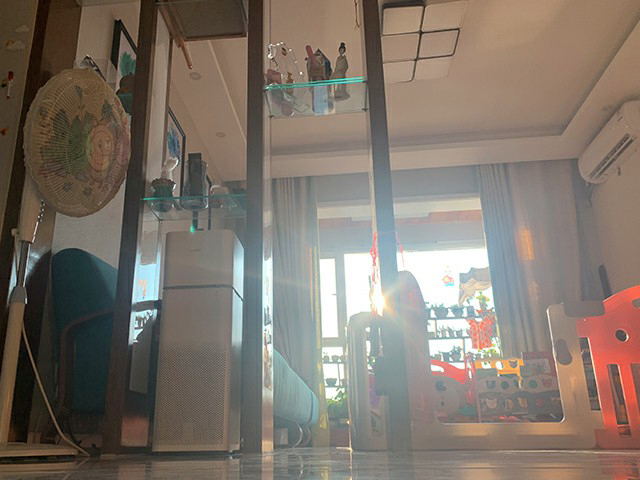curtain: (271, 176, 331, 448)
wire: (21, 325, 94, 459)
